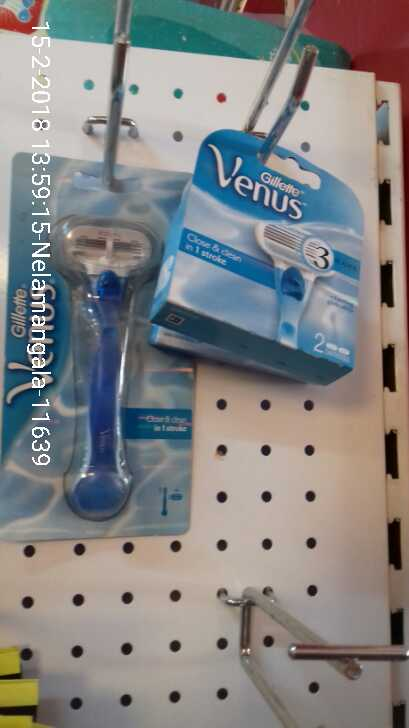venus: (5, 154, 194, 530), (158, 127, 370, 378)
